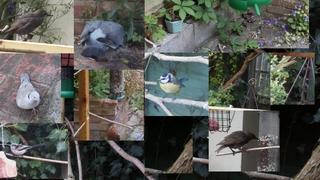blue tit: (157, 73, 189, 103)
collared dove: (16, 73, 41, 116)
long tailed tit: (9, 143, 48, 158)
starling: (3, 8, 54, 42), (214, 130, 260, 156)
wood pigeon: (80, 20, 125, 63)
